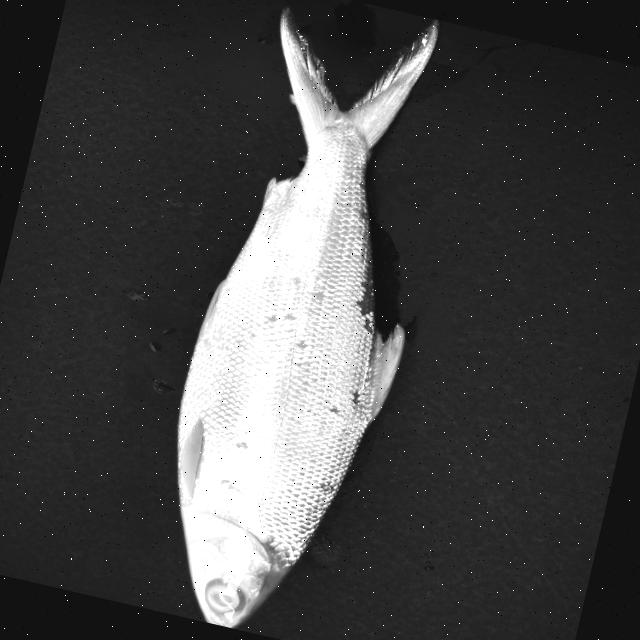940 g: (132, 0, 476, 640)
